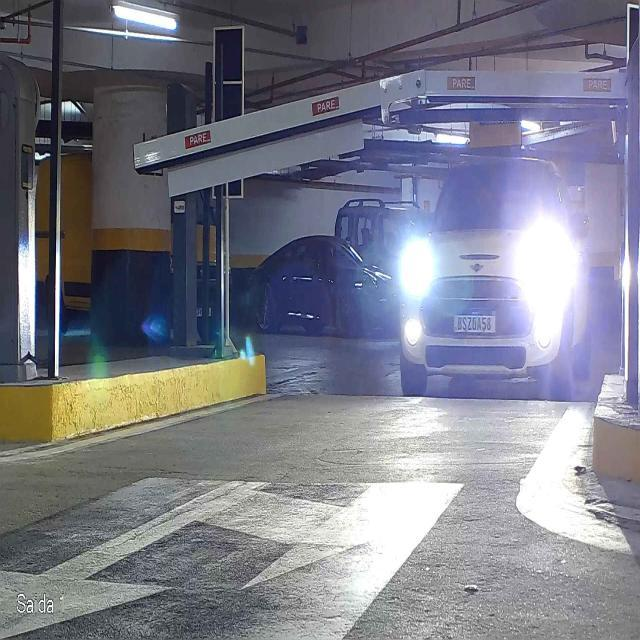mercosul_plate: (452, 308, 498, 333)
